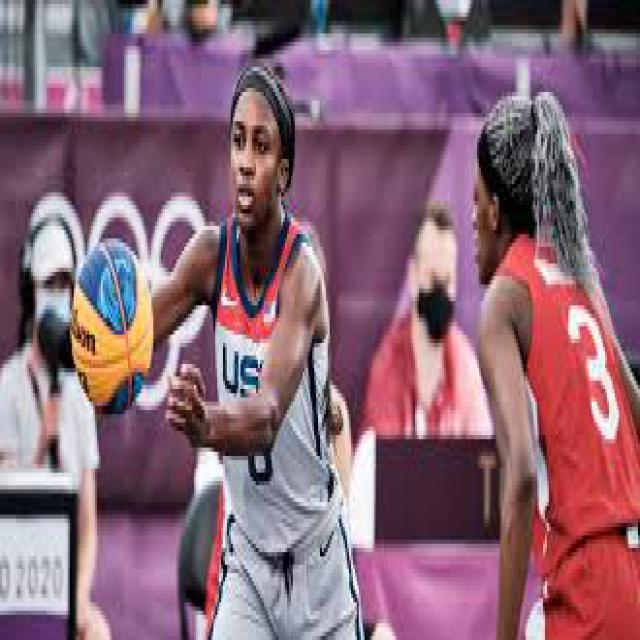basketball: (70, 238, 154, 414)
